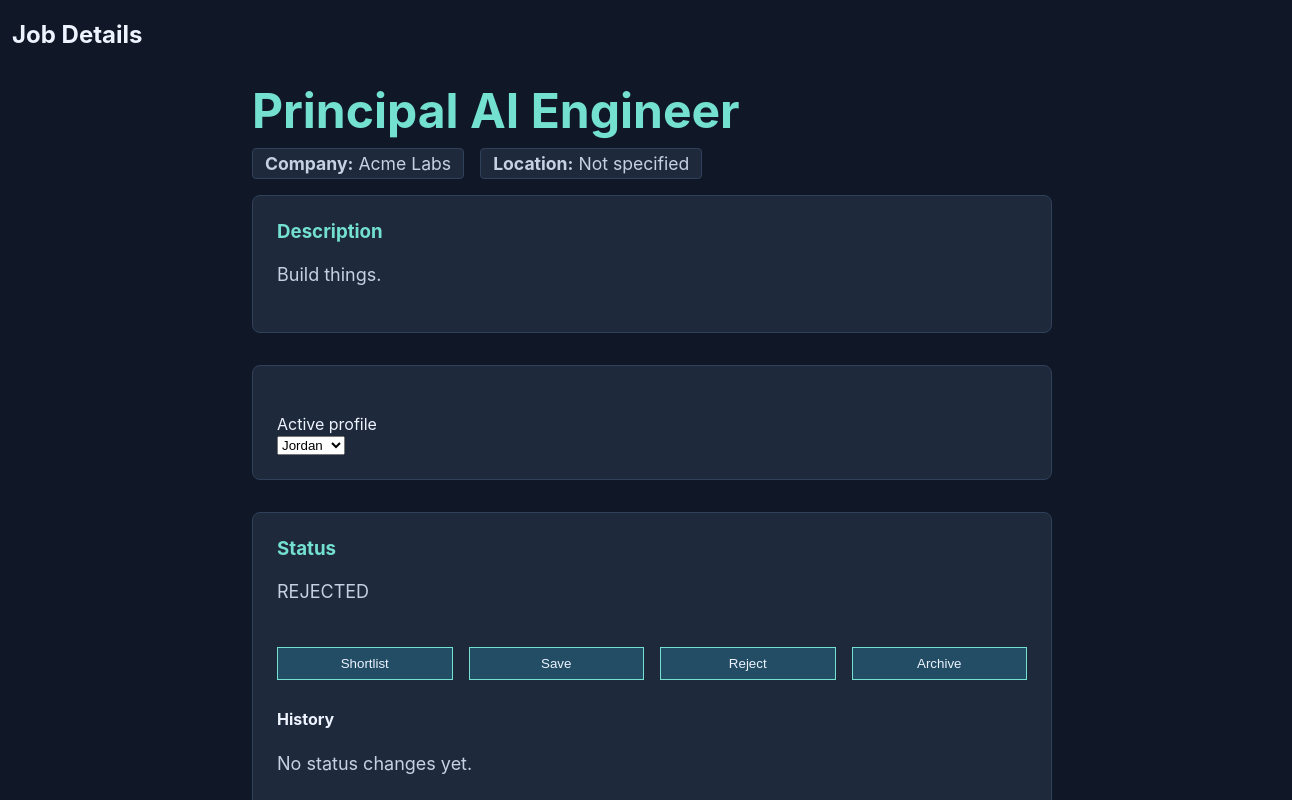
Test: JobDetail › surfaces a 409 for a forbidden transition
The image size is (1292, 800).
Expected: the text with test id "workflow-status" reads "REJECTED", [277,581,369,602]
Step 1. Click the button "Reject" → x=748, y=663, box [660,647,836,680]
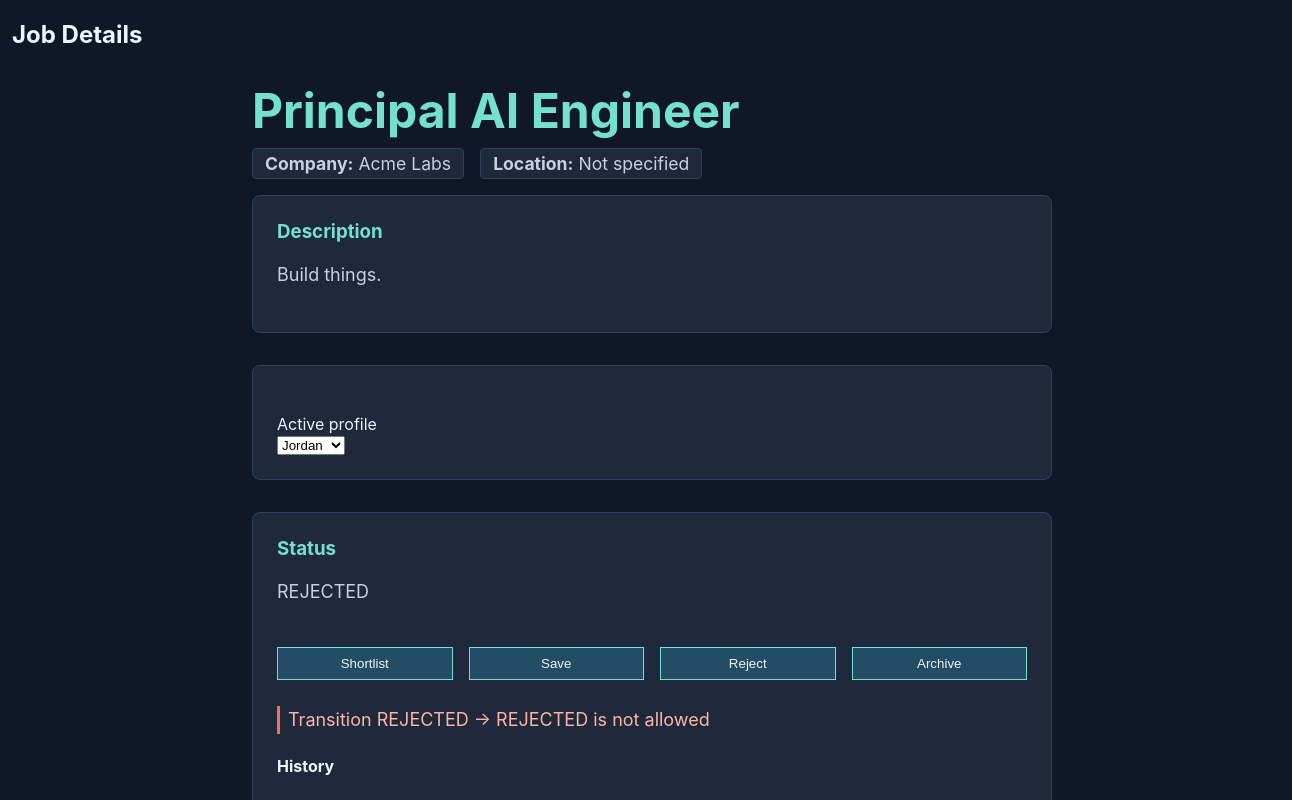
Result: the message shows "not allowed" at [288,709,710,730]
